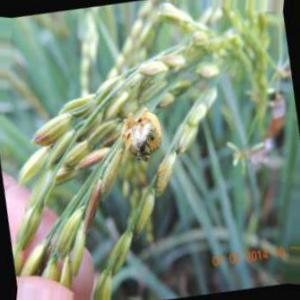Leaf_Scald: (119, 102, 166, 162)
